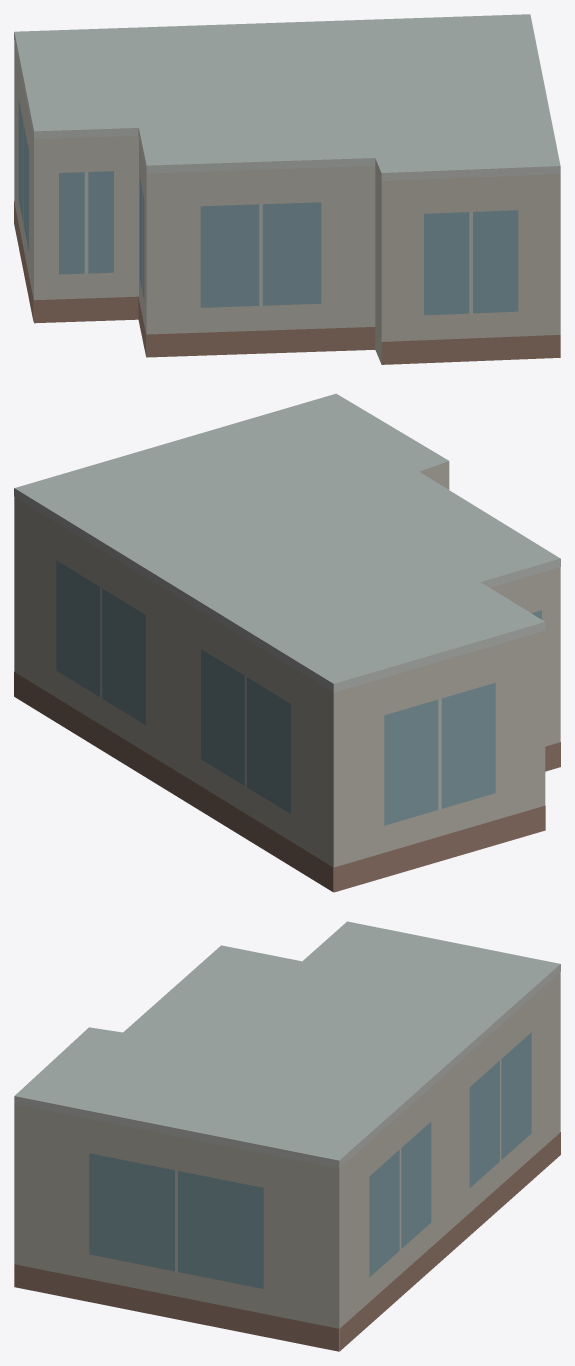
File: survey-upis-32818849.glb
The picture shows the model from 3 angles, top to bottom: view 1: azimuth 30°, elevation 25°; view 2: azimuth 150°, elevation 25°; view 3: azimuth 270°, elevation 25°; orthographic projection. The views are drawn at different scales.
Parts seen in each view (by area): view 1: survey-upis-32818849.tmp; view 2: survey-upis-32818849.tmp; view 3: survey-upis-32818849.tmp.
Boxes of the visible parts, box(x1,y1,x2,y2) form: survey-upis-32818849.tmp: box(14, 14, 560, 364); survey-upis-32818849.tmp: box(14, 393, 560, 892); survey-upis-32818849.tmp: box(14, 921, 560, 1351).
Size of the model in its own units: 8.21 by 3.05 by 7.92.
